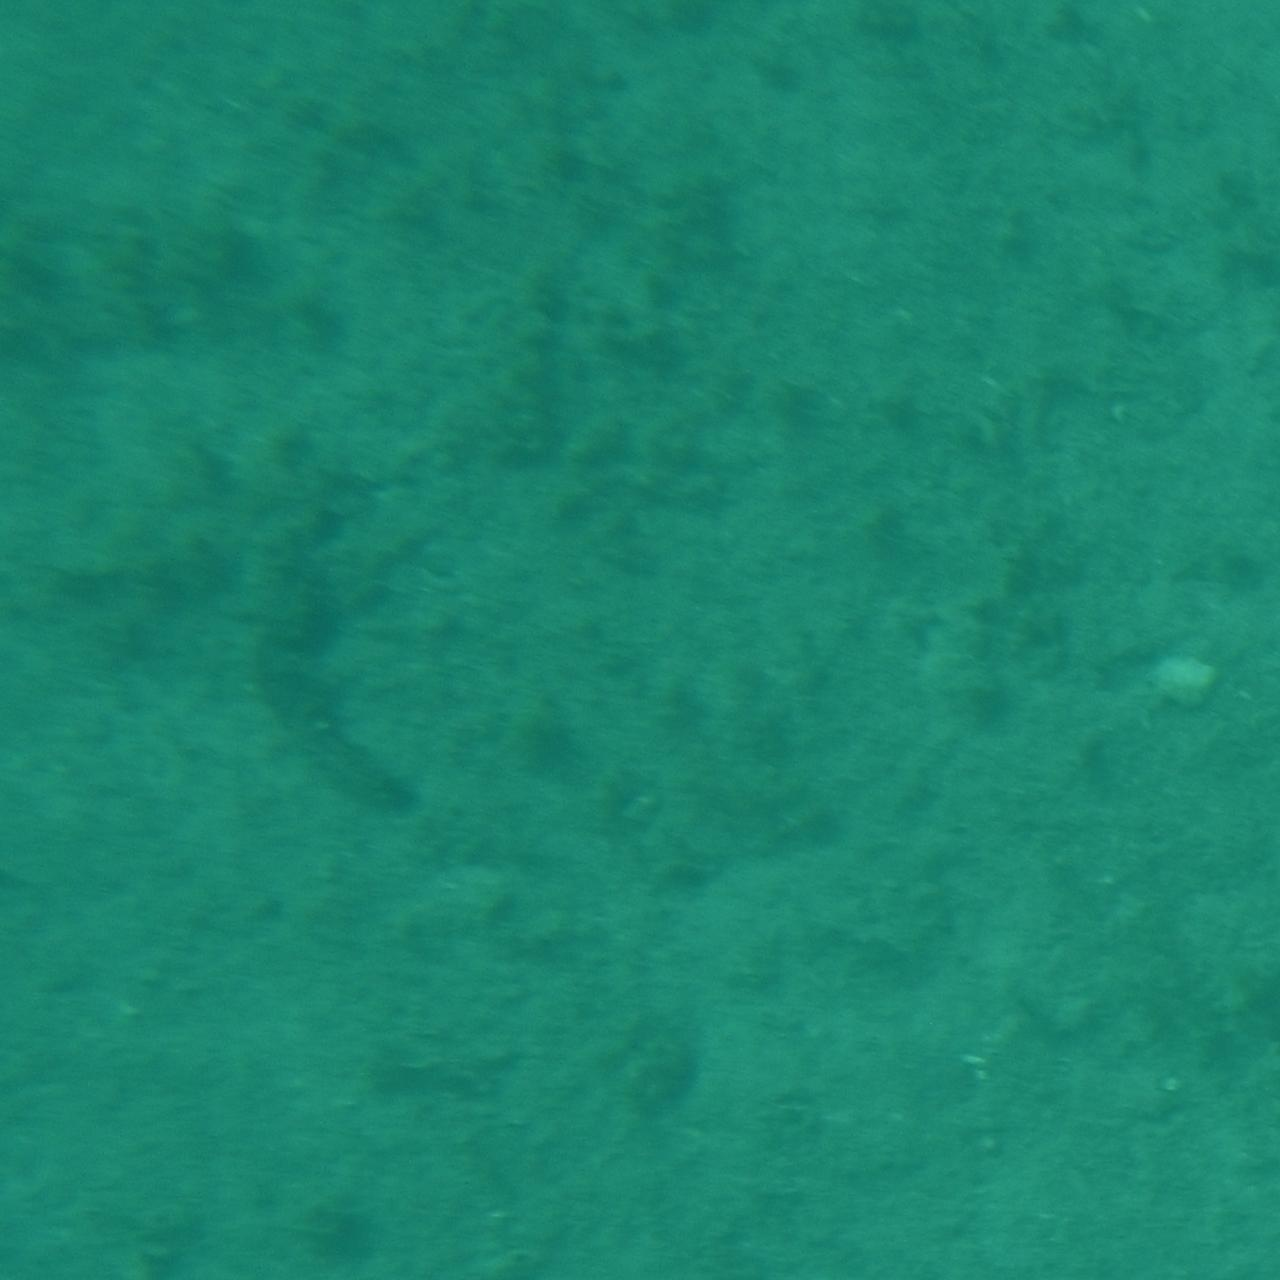Holothuria tubulosa: (239, 450, 432, 830)
